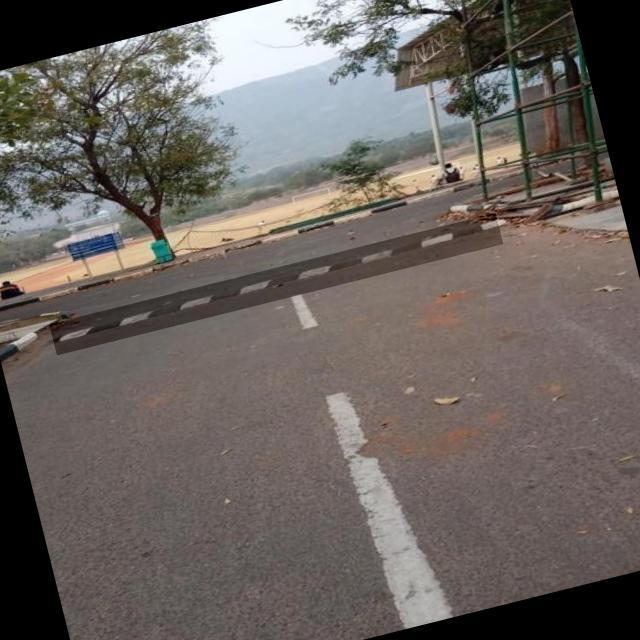speedbreaker: (49, 212, 503, 354)
